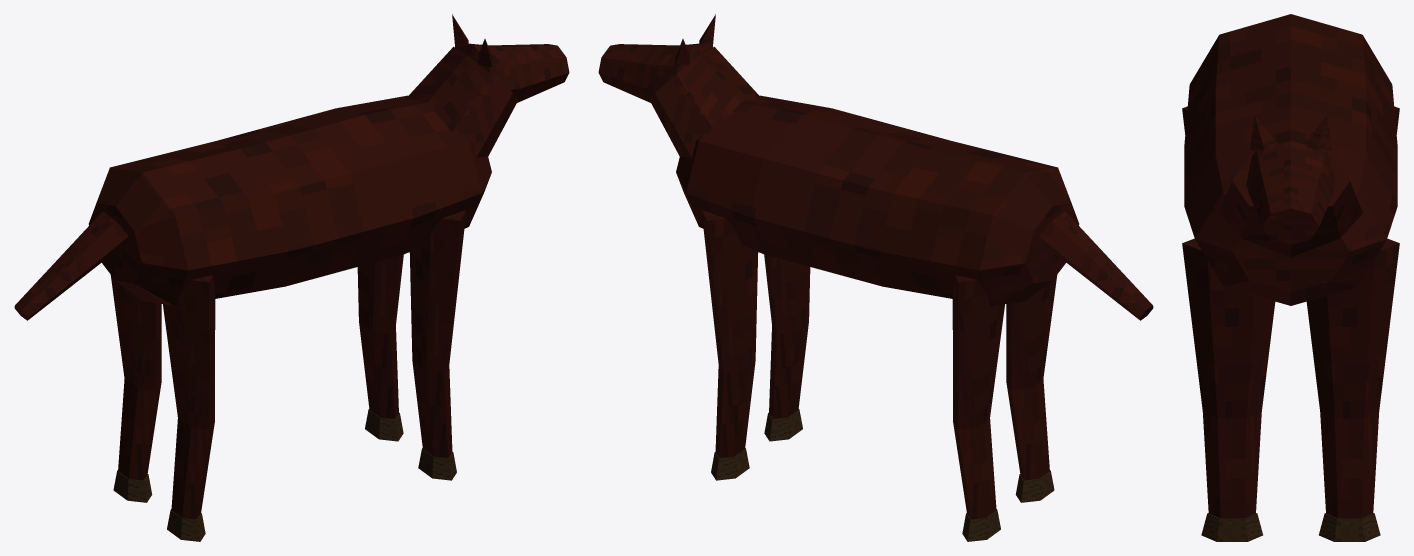
The model's file is perro_pastor.glb.
The picture shows the model from 3 angles, left to right: view 1: azimuth 30°, elevation 25°; view 2: azimuth 150°, elevation 25°; view 3: azimuth 270°, elevation 25°; orthographic projection. The views are drawn at different scales.
Parts seen in each view (by area): view 1: cuerpo, pata_delantera_der, pata_trasera_der, pata_trasera_izq, cuello, pata_delantera_izq, cola, cabeza, pezuna_delantera_izq, pezuna_trasera_izq, pezuna_delantera_der, pezuna_trasera_der; view 2: cuerpo, pata_delantera_izq, pata_trasera_izq, pata_trasera_der, cuello, pata_delantera_der, cola, cabeza, pezuna_delantera_der, pezuna_trasera_der, pezuna_delantera_izq, pezuna_trasera_izq; view 3: cuerpo, pata_delantera_izq, pata_delantera_der, cabeza, cuello, pezuna_delantera_izq, pezuna_delantera_der, orejas.
Boxes of the visible parts, bbox=[...] form: cuerpo: bbox=[88, 95, 491, 305]; pata_delantera_der: bbox=[409, 210, 465, 458]; pata_trasera_der: bbox=[163, 275, 215, 519]; pata_trasera_izq: bbox=[110, 275, 161, 480]; cuello: bbox=[406, 46, 518, 157]; pata_delantera_izq: bbox=[357, 254, 403, 419]; cola: bbox=[14, 211, 128, 320]; cabeza: bbox=[455, 43, 569, 102]; pezuna_delantera_izq: bbox=[365, 409, 403, 441]; pezuna_trasera_izq: bbox=[113, 470, 152, 502]; pezuna_delantera_der: bbox=[418, 448, 456, 480]; pezuna_trasera_der: bbox=[167, 509, 205, 541]; cuerpo: bbox=[676, 95, 1079, 305]; pata_delantera_izq: bbox=[702, 210, 758, 458]; pata_trasera_izq: bbox=[952, 275, 1004, 519]; pata_trasera_der: bbox=[1006, 275, 1057, 480]; cuello: bbox=[649, 46, 761, 157]; pata_delantera_der: bbox=[764, 254, 810, 419]; cola: bbox=[1039, 211, 1153, 320]; cabeza: bbox=[598, 43, 712, 102]; pezuna_delantera_der: bbox=[764, 409, 802, 441]; pezuna_trasera_der: bbox=[1015, 470, 1054, 502]; pezuna_delantera_izq: bbox=[711, 448, 749, 480]; pezuna_trasera_izq: bbox=[962, 509, 1000, 541]; cuerpo: bbox=[1184, 14, 1397, 305]; pata_delantera_izq: bbox=[1306, 238, 1399, 518]; pata_delantera_der: bbox=[1182, 238, 1275, 518]; cabeza: bbox=[1246, 141, 1335, 244]; cuello: bbox=[1219, 155, 1362, 257]; pezuna_delantera_izq: bbox=[1319, 513, 1380, 541]; pezuna_delantera_der: bbox=[1201, 513, 1262, 541]; orejas: bbox=[1250, 115, 1331, 150].
Bounding box in the file's own units: 1.1 × 0.8 × 0.35.
Materials: 1 (1 with a texture image).
